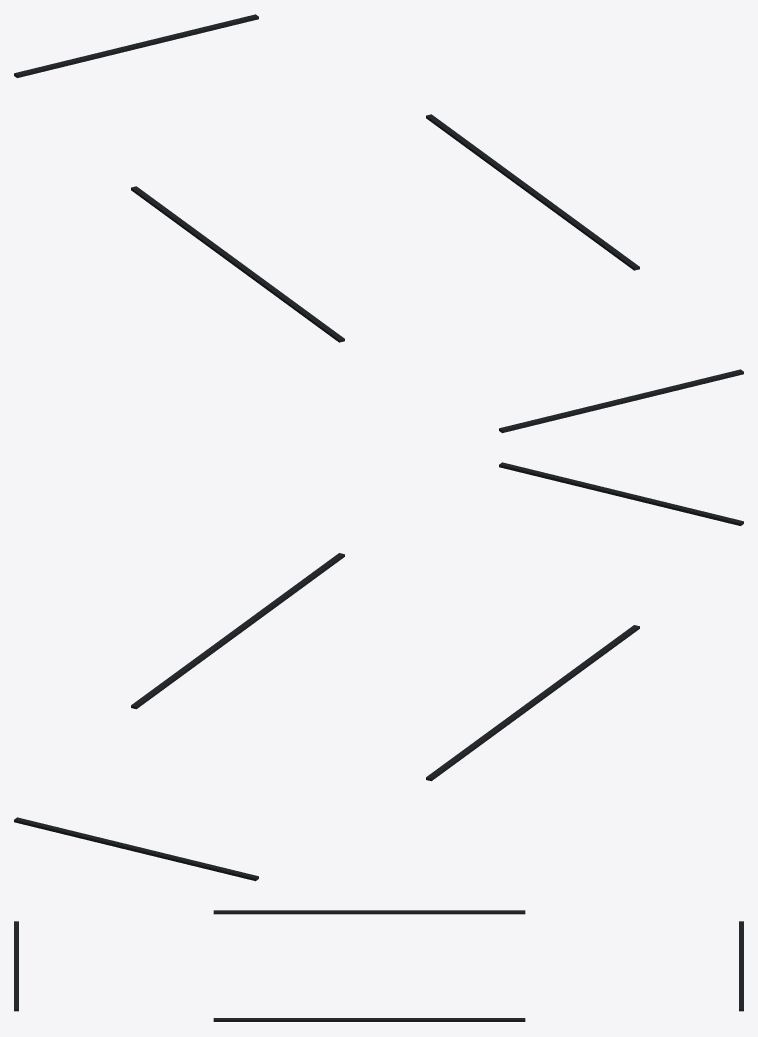
The model's file is strada_evo.glb.
3 views of the same model, one above another, from view 1: azimuth 30°, elevation 25°; view 2: azimuth 150°, elevation 25°; view 3: azimuth 270°, elevation 25° (orthographic). The views are drawn at different scales.
Visible parts, largest first — view 1: model; view 2: model; view 3: model.
Part boxes in pixels (x1,y1,x2,y2): model: (14, 14, 743, 433); model: (14, 462, 743, 881); model: (14, 910, 743, 1022).
Bounding box in the file's own units: 1.48 × 0.0178 × 4.16.
2 materials, 1 textured.
